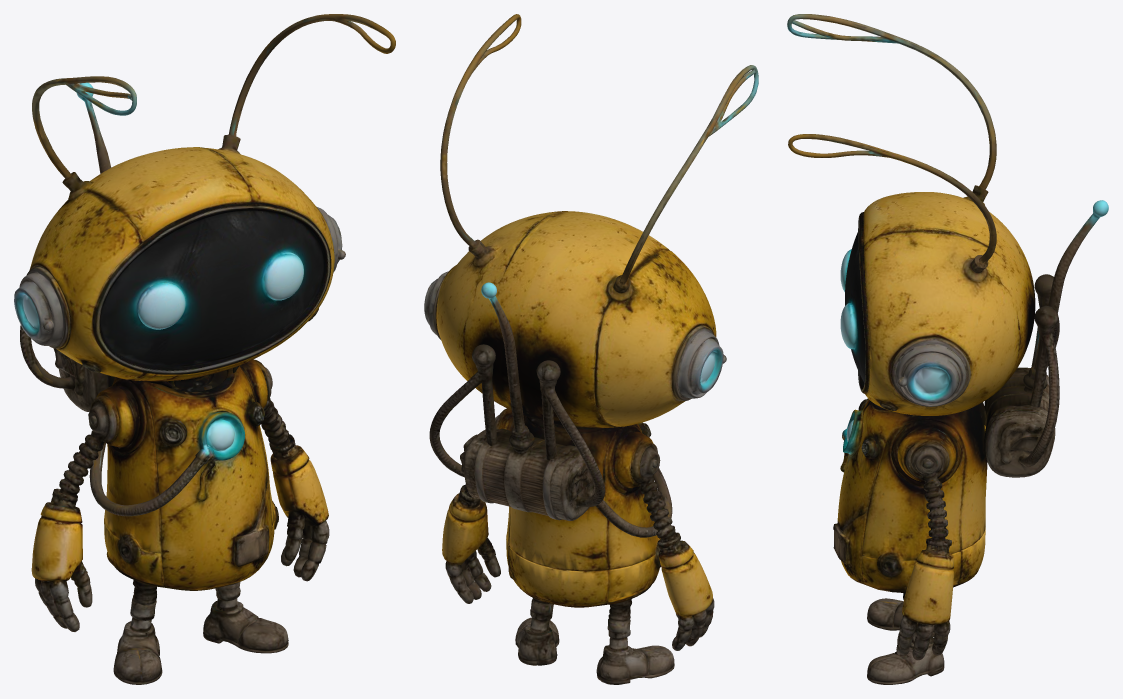
The model's file is robot.glb.
3 renders of one model, left to right at view 1: azimuth 30°, elevation 25°; view 2: azimuth 150°, elevation 25°; view 3: azimuth 270°, elevation 25°, orthographic. The views are drawn at different scales.
Visible parts, largest first — view 1: material; view 2: material; view 3: material.
Boxes of the visible parts, <box> form: material: <box>14,14,395,684</box>; material: <box>424,14,758,684</box>; material: <box>787,14,1108,684</box>.
Size of the model in its own units: 0.5104 by 1.02 by 0.5106.
Materials: 1 (1 with a texture image).
